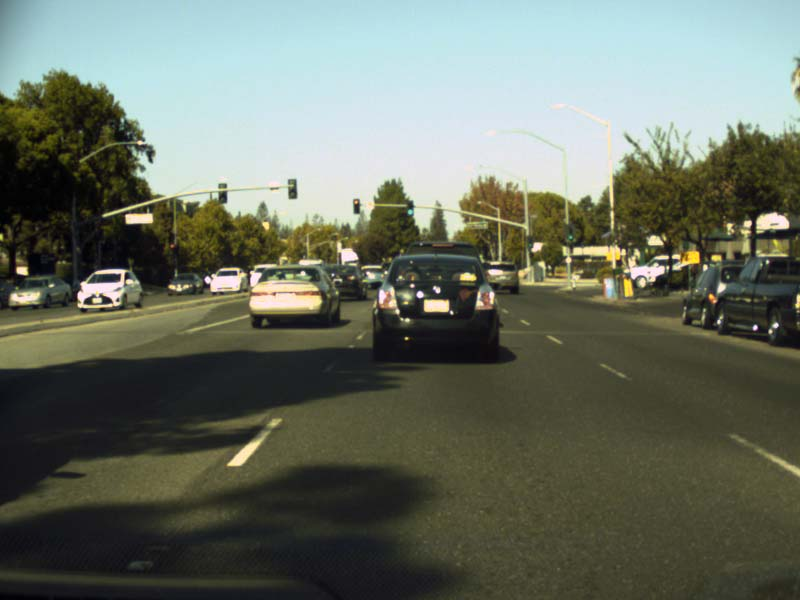Green: (168, 232, 175, 249), (406, 200, 413, 216), (566, 226, 572, 241), (526, 236, 532, 247)
Red: (353, 198, 359, 214)
